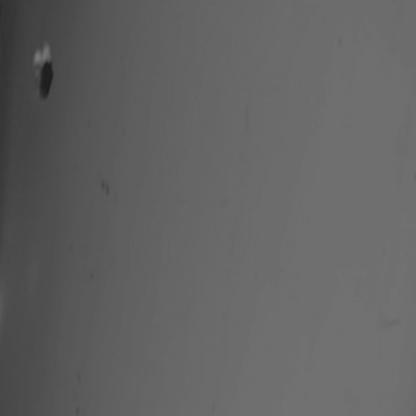kongdong: (15, 41, 67, 104)
